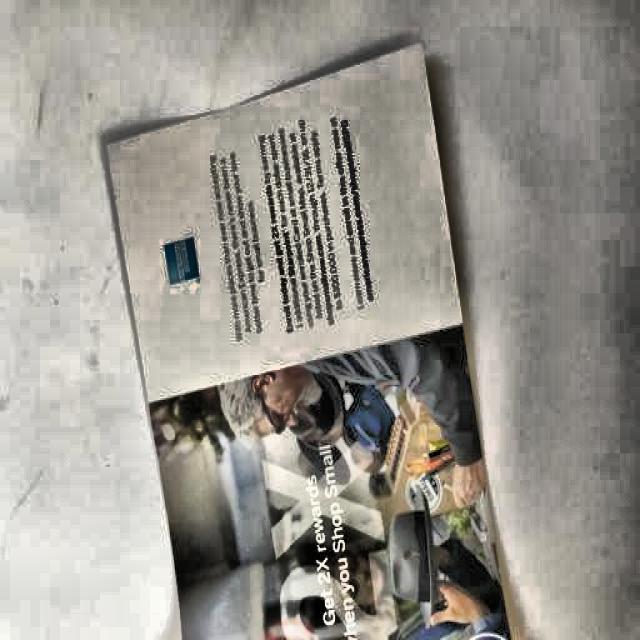paper: (105, 65, 544, 640)
